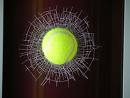tennis ball: (37, 24, 80, 66)
